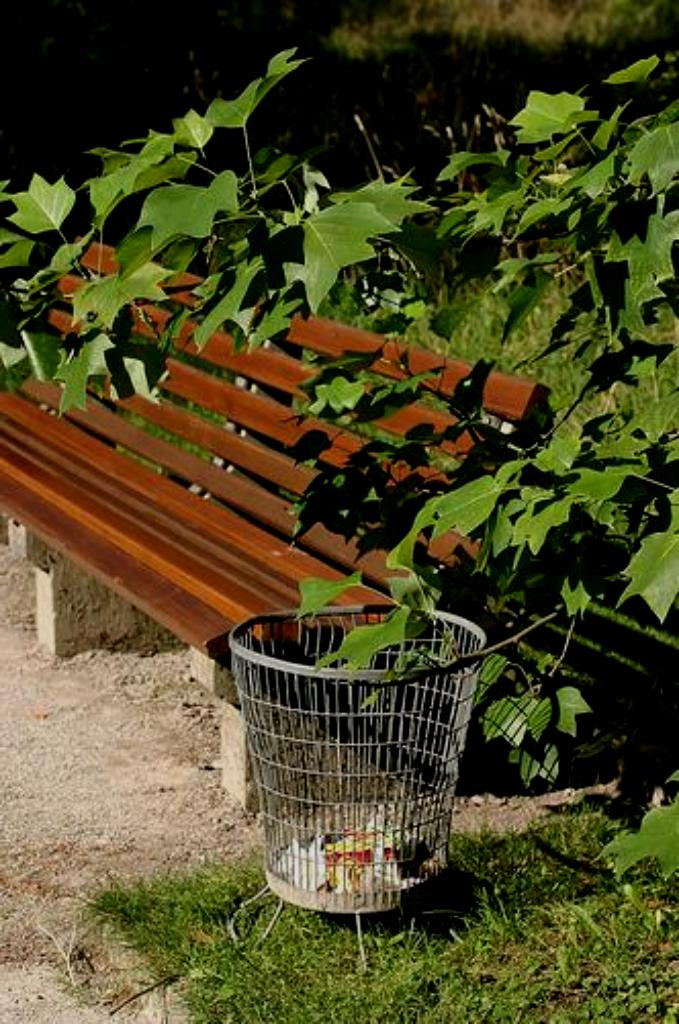dustbin: (218, 592, 497, 931)
